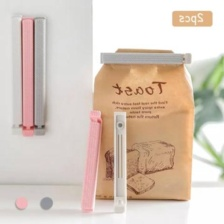snack: (87, 40, 200, 205)
